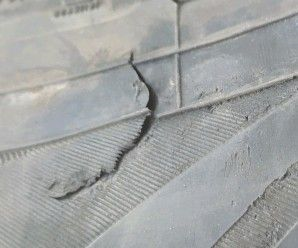cut: (41, 47, 168, 211)
